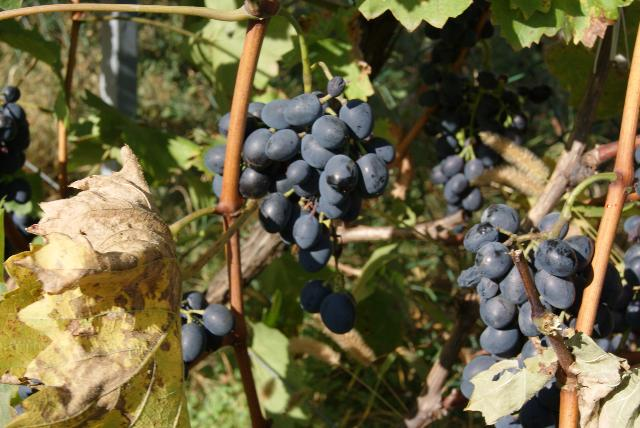grapes: (239, 76, 395, 334), (239, 76, 395, 272), (458, 204, 579, 355), (459, 204, 548, 399)
